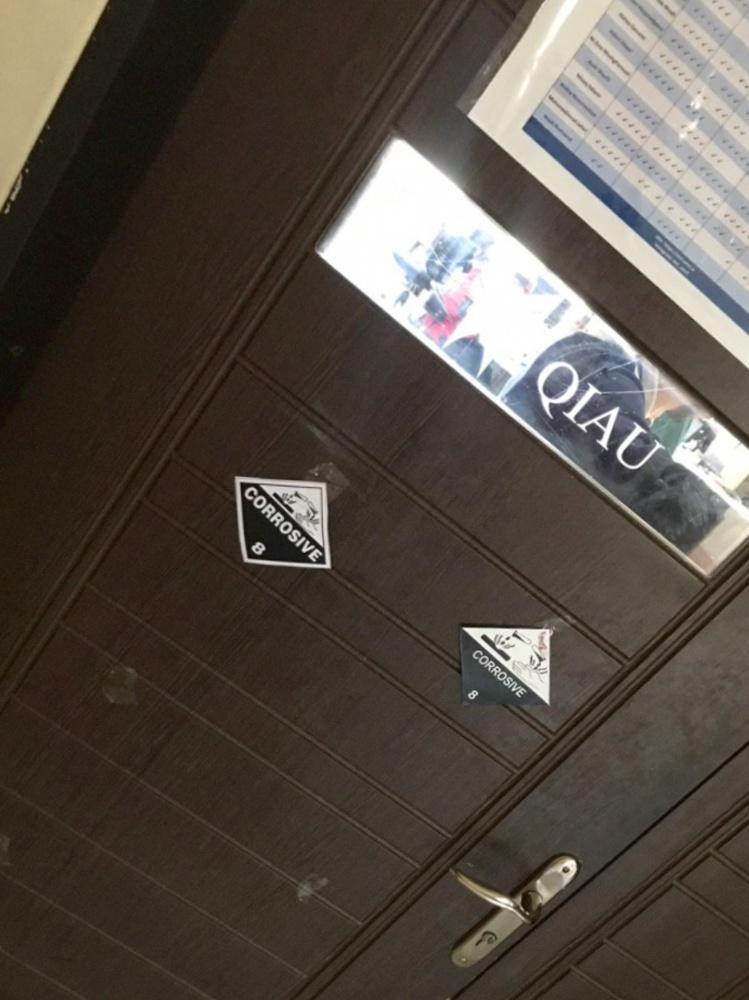corrosive: (234, 473, 335, 571), (457, 622, 557, 712)
